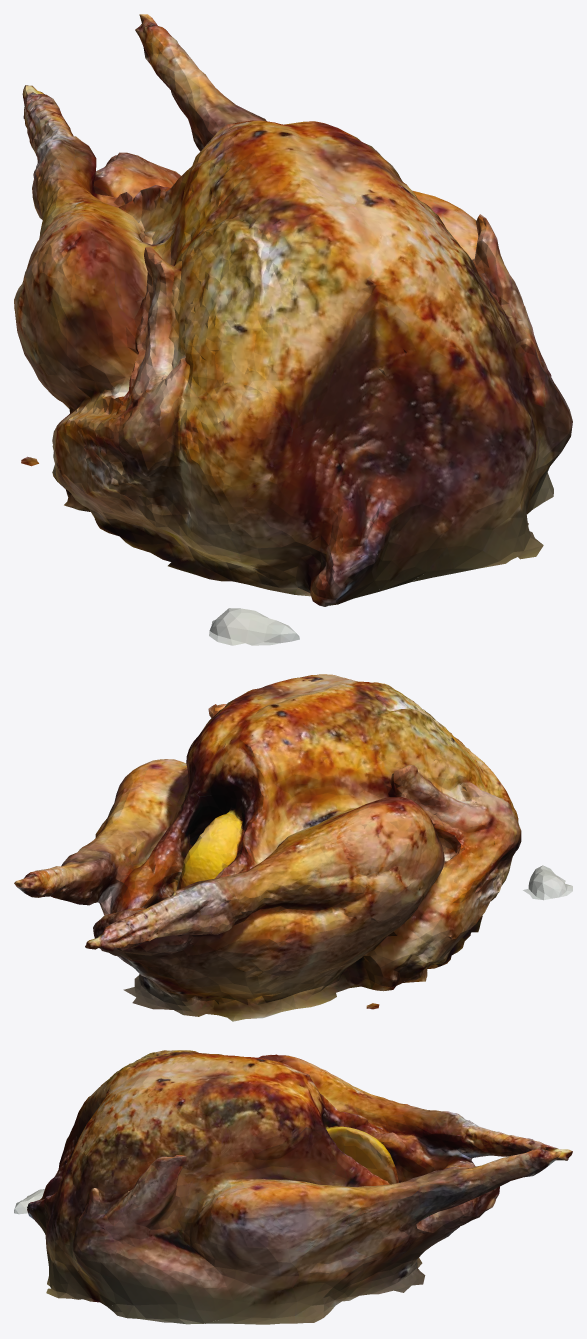
Rendered from compressed_turkey.glb.
3 renders of one model, top to bottom at view 1: azimuth 30°, elevation 25°; view 2: azimuth 150°, elevation 25°; view 3: azimuth 270°, elevation 25°, orthographic. The views are drawn at different scales.
Bounding box in the file's own units: 0.8052 × 0.5525 × 1.38.
1 material, 1 textured.
